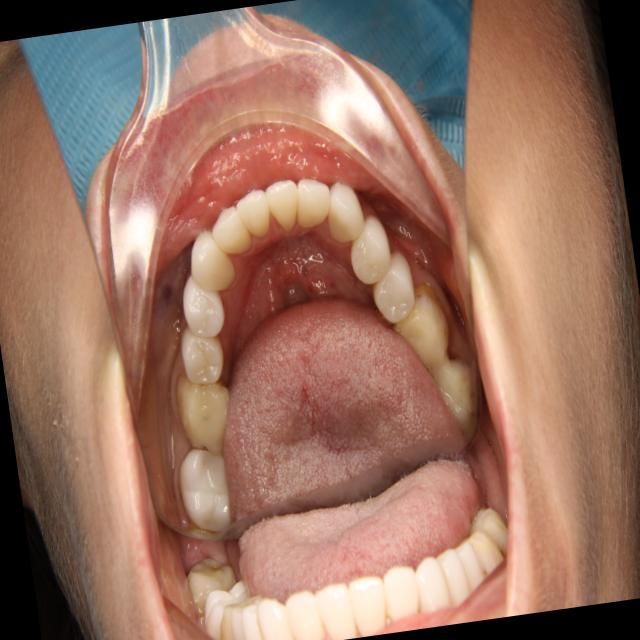tooth: (160, 426, 249, 547), (380, 279, 465, 387), (168, 362, 246, 467), (360, 250, 435, 342), (171, 273, 245, 363), (280, 152, 346, 249), (335, 211, 403, 298), (424, 350, 487, 440), (183, 225, 250, 304), (314, 169, 374, 255), (227, 172, 281, 262), (172, 322, 232, 400), (256, 167, 316, 243), (206, 196, 260, 268)
